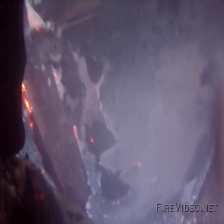fire_l: (24, 99, 32, 113), (73, 124, 77, 138), (21, 83, 25, 91), (90, 136, 94, 144), (29, 123, 33, 127)
